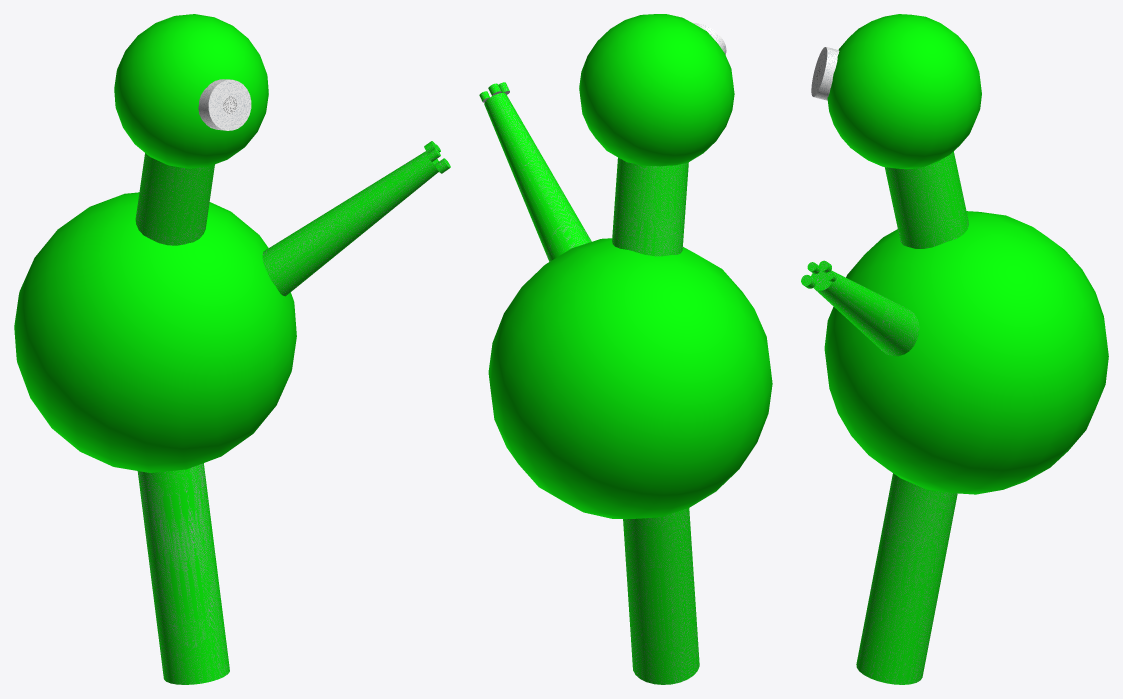
File: slimyAlien.dae
3 renders of one model, left to right at view 1: azimuth 30°, elevation 25°; view 2: azimuth 150°, elevation 25°; view 3: azimuth 270°, elevation 25°, orthographic.
Parts seen in each view (by area): view 1: group_3, group_0 (×2), group_4, group_2, group_1; view 2: group_3, group_4, group_0 (×2), group_2; view 3: group_3, group_4, group_0 (×2), group_2, group_1.
Part boxes in pixels (box(x1,y1,x2,y2)): group_3: box(14, 192, 296, 472); group_0 (×2): box(137, 141, 450, 684); group_4: box(114, 14, 268, 168); group_2: box(135, 153, 214, 245); group_1: box(198, 79, 251, 130); group_3: box(488, 238, 772, 518); group_4: box(579, 14, 734, 166); group_0 (×2): box(484, 82, 699, 684); group_2: box(612, 157, 688, 256); group_3: box(824, 211, 1108, 494); group_4: box(827, 14, 981, 169); group_0 (×2): box(801, 260, 957, 684); group_2: box(884, 151, 968, 248); group_1: box(811, 47, 839, 100).
Bounding box in the file's own units: 117 × 91.34 × 215.
